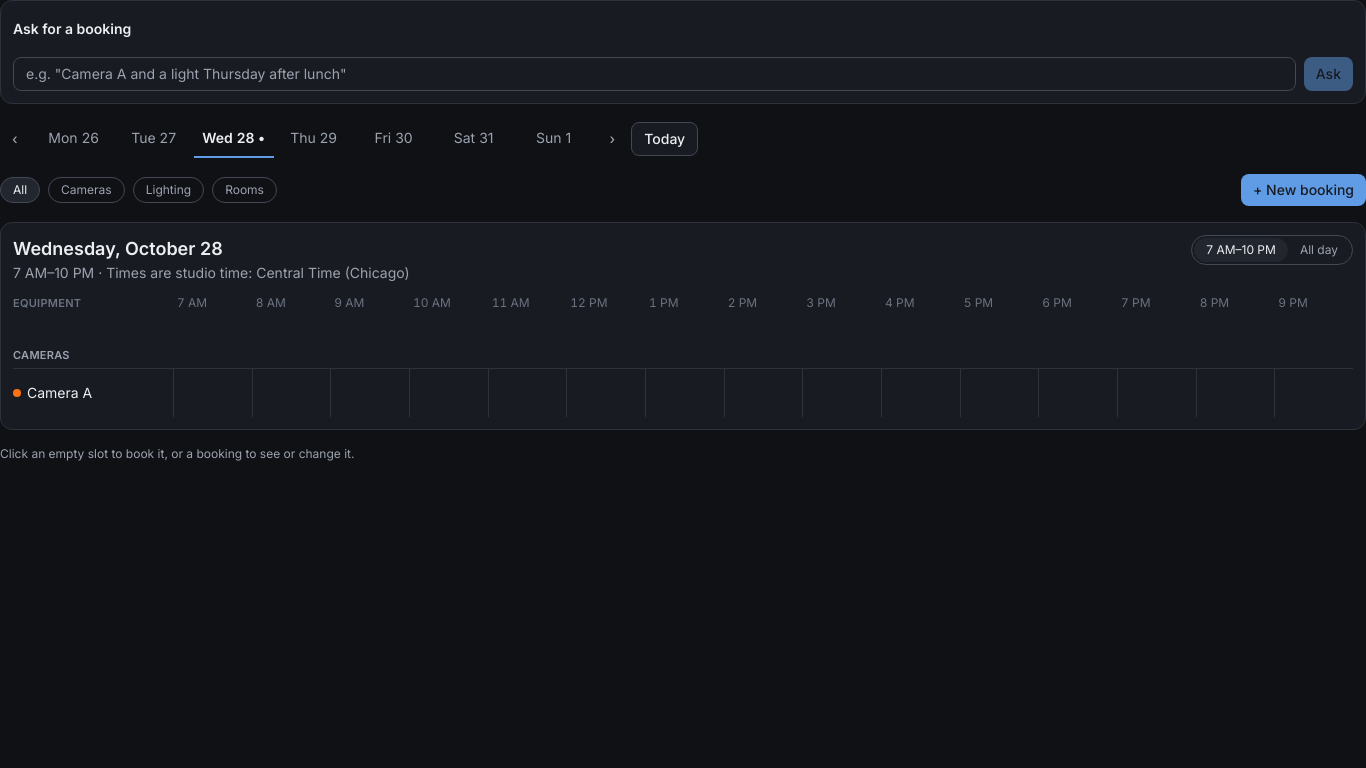
AssistantPanel › opens the booking form filled in from a draft, without saving
Type "Camera A Thursday 1 to 3 for an interview" into the field named "Ask the booking assistant" at (654, 74), box [13,57,1296,91]
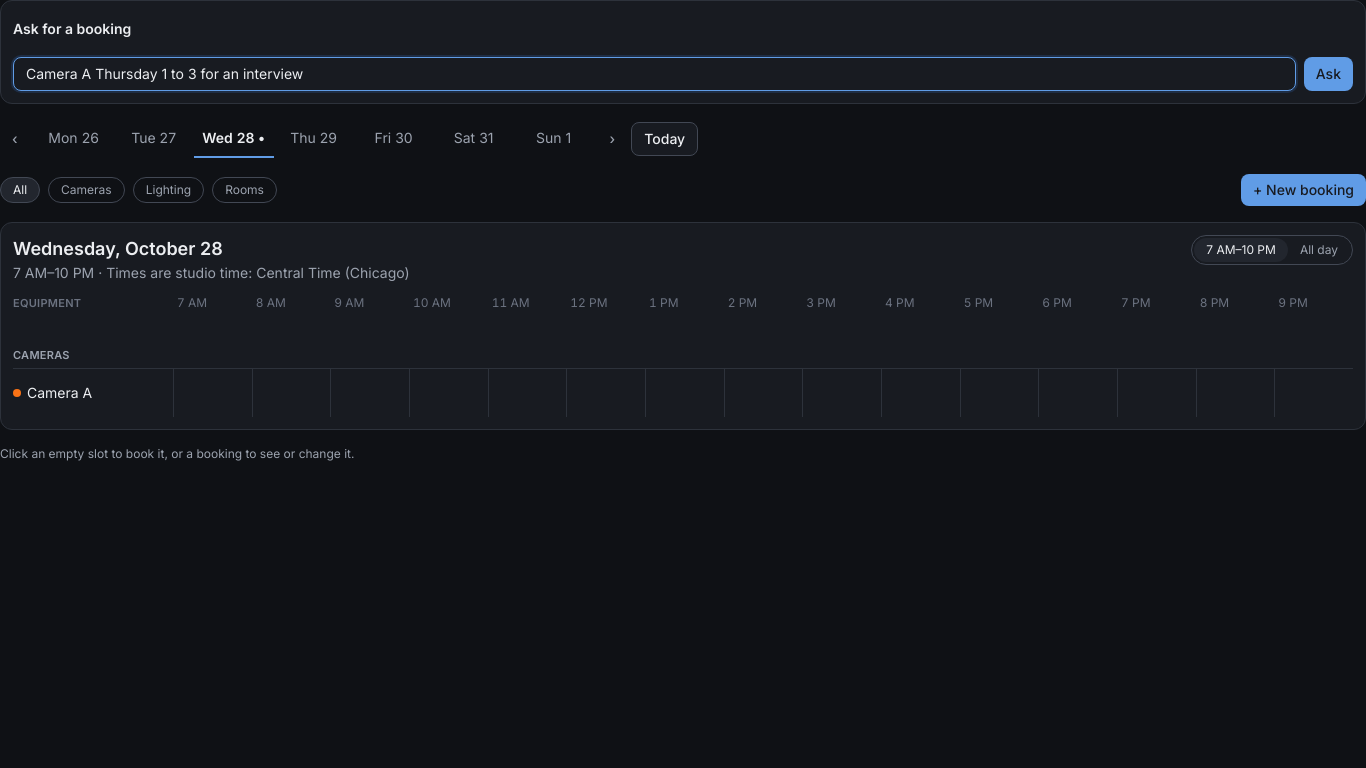
Click the button "Ask" at (1328, 74), box [1304,57,1353,91]
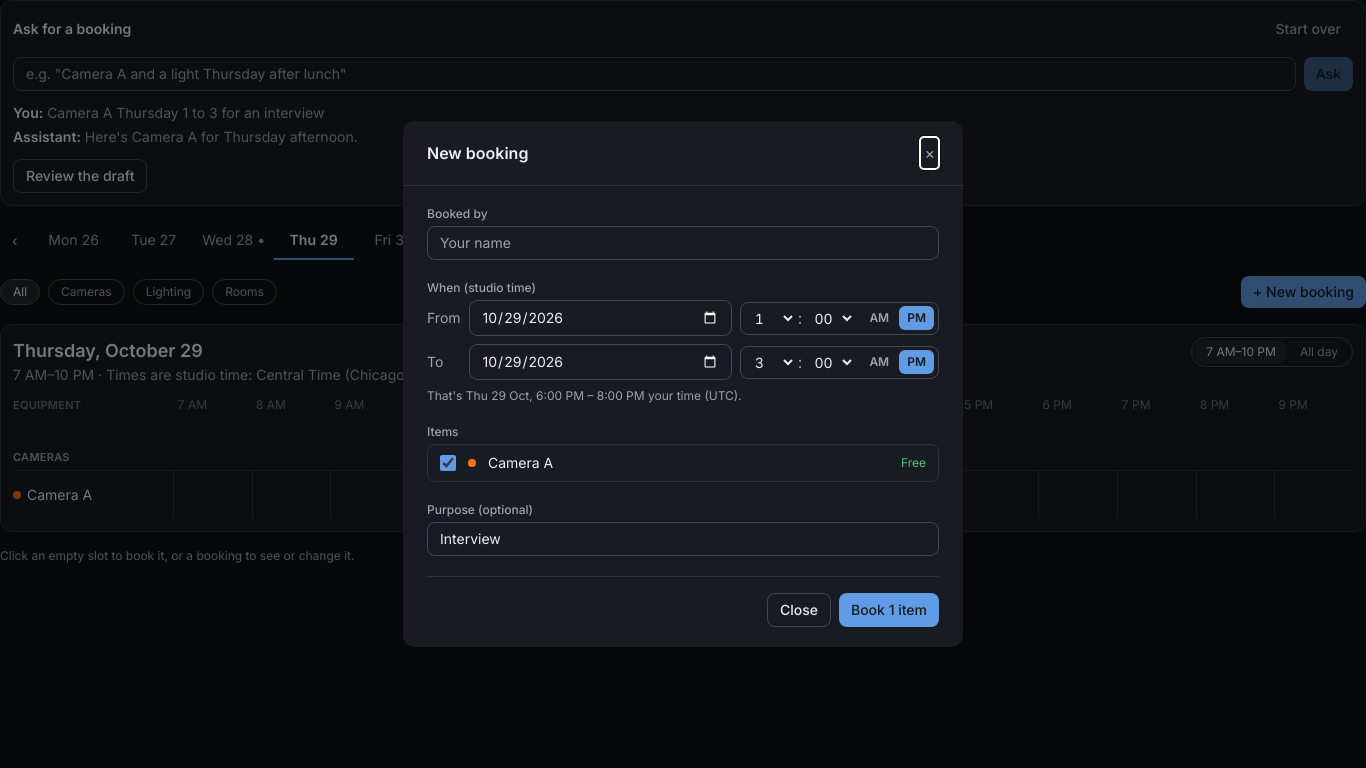
Expected: the date field named "Start date" holds "2026-10-29", [469,300,732,336]
Expected: the field named "Purpose" holds "Interview", [427,522,939,556]
Expected: the checkbox labelled "Camera A Free" is checked, [440,455,456,471]
